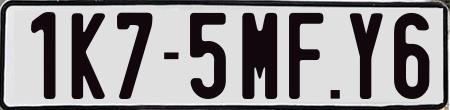1: (31, 11, 59, 103)
5: (190, 12, 231, 101)
6: (391, 13, 426, 100)
7: (114, 12, 149, 104)
F: (288, 13, 323, 101)
K: (72, 11, 106, 103)
M: (241, 13, 279, 100)
Y: (347, 10, 381, 101)
